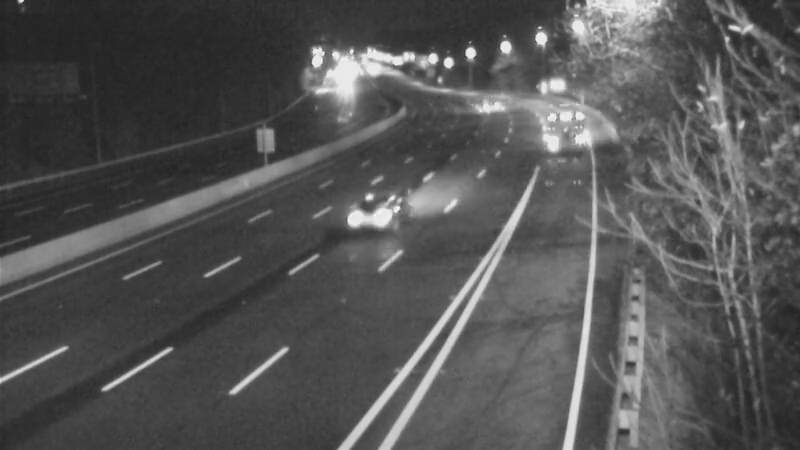vehicle: (336, 169, 416, 249), (457, 80, 507, 130), (530, 100, 580, 150)
